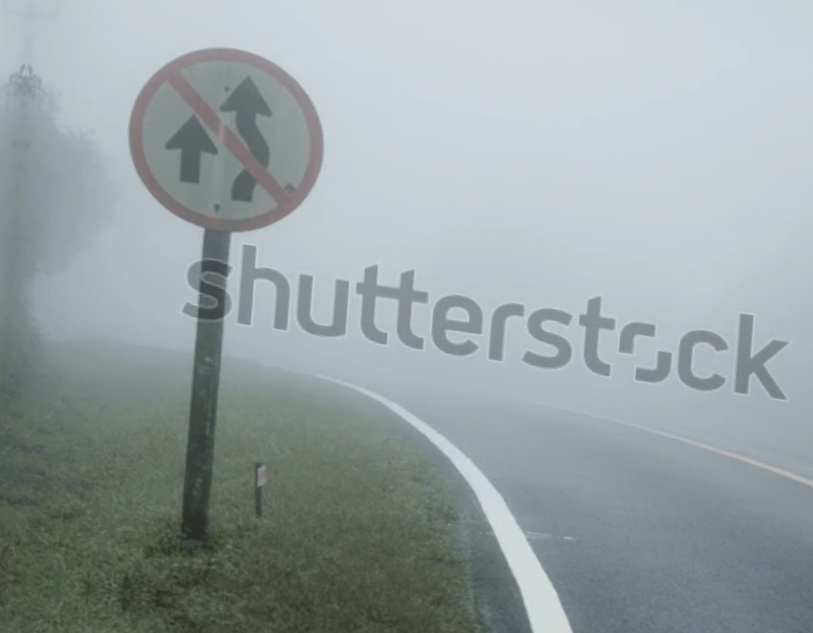No overtake from right: (114, 42, 339, 218)
